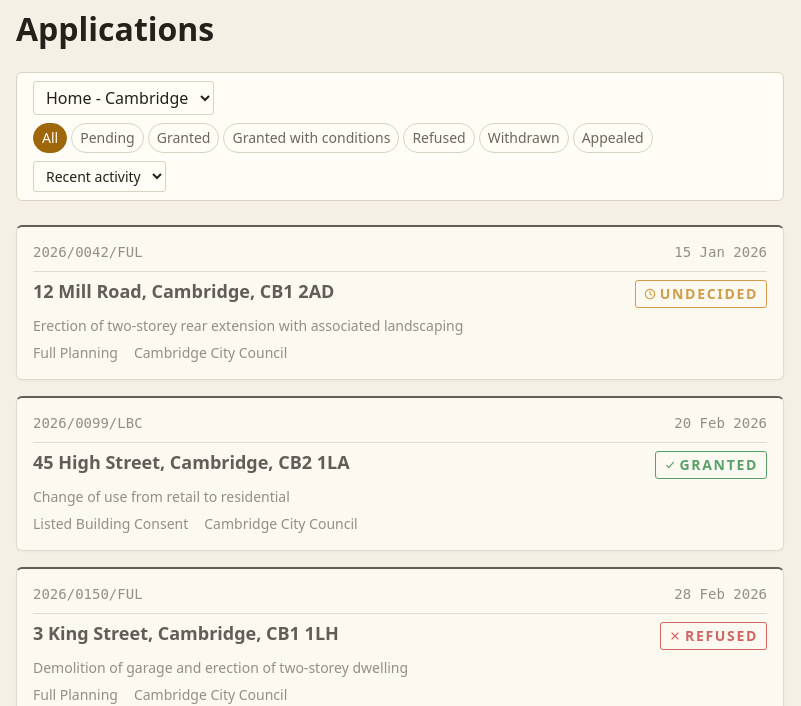
Test case: ApplicationsPage — list rendering › refetches with the status filter (server-side) when a status chip is clicked
The image size is (801, 706).
Expected: the text "2026/0042/FUL" is shown, [33,243,143,263]
Click the button "Granted": click(184, 138) [148,123,220,153]
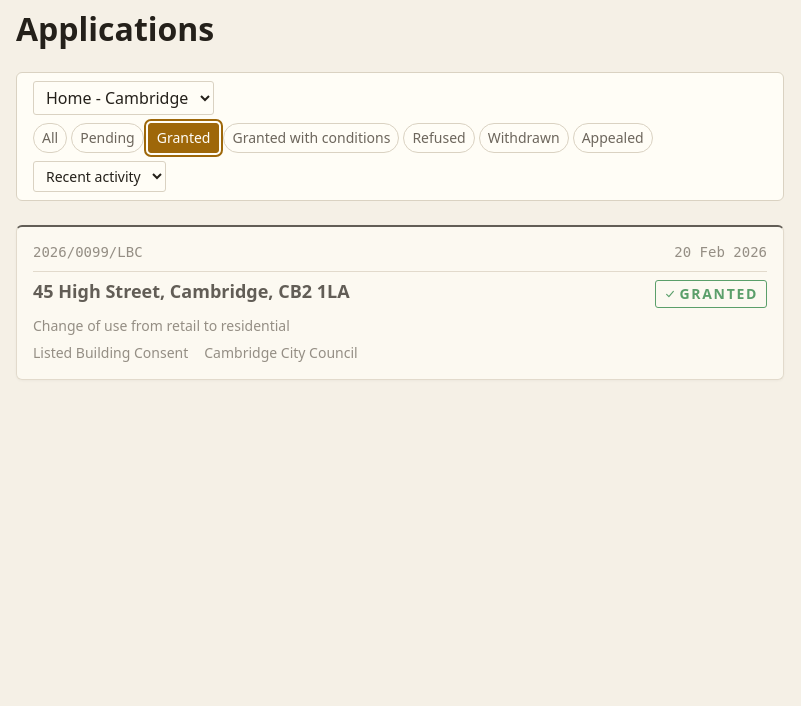
Expected: the text "2026/0099/LBC" is shown, [33,243,143,263]
Now the link "2026/0042/FUL" is gone
